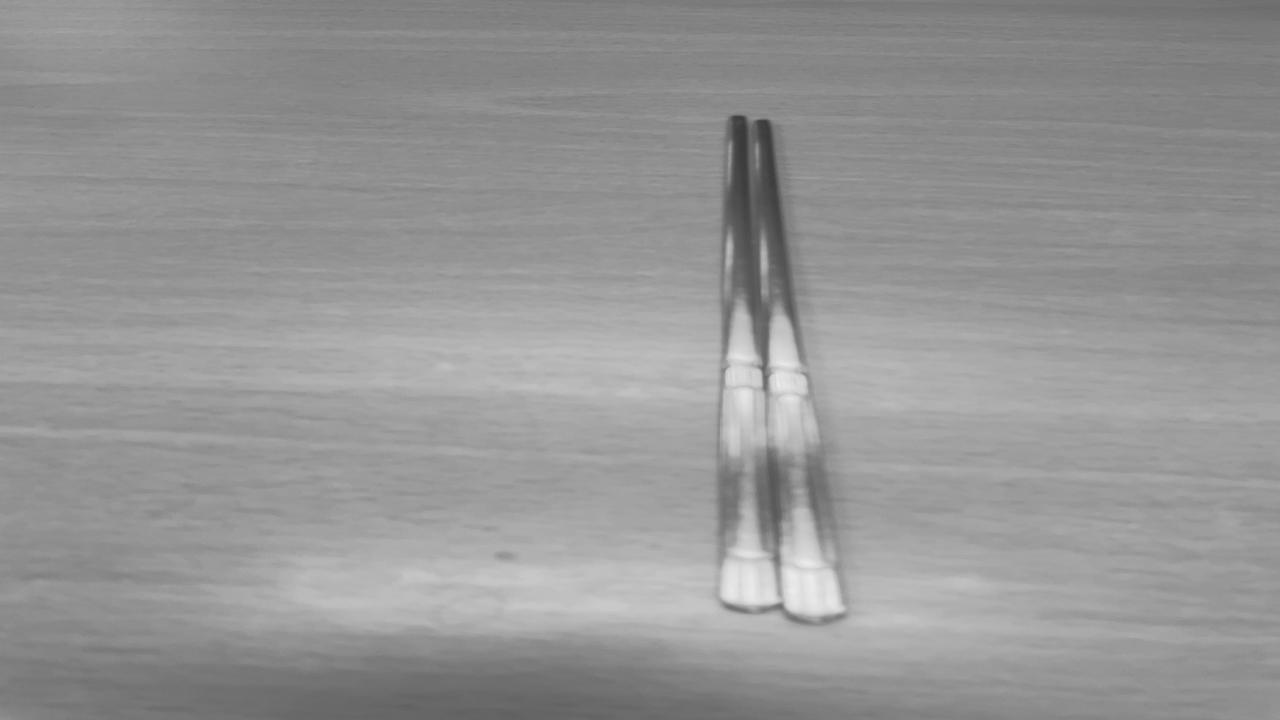chopstick: (724, 114, 842, 622)
